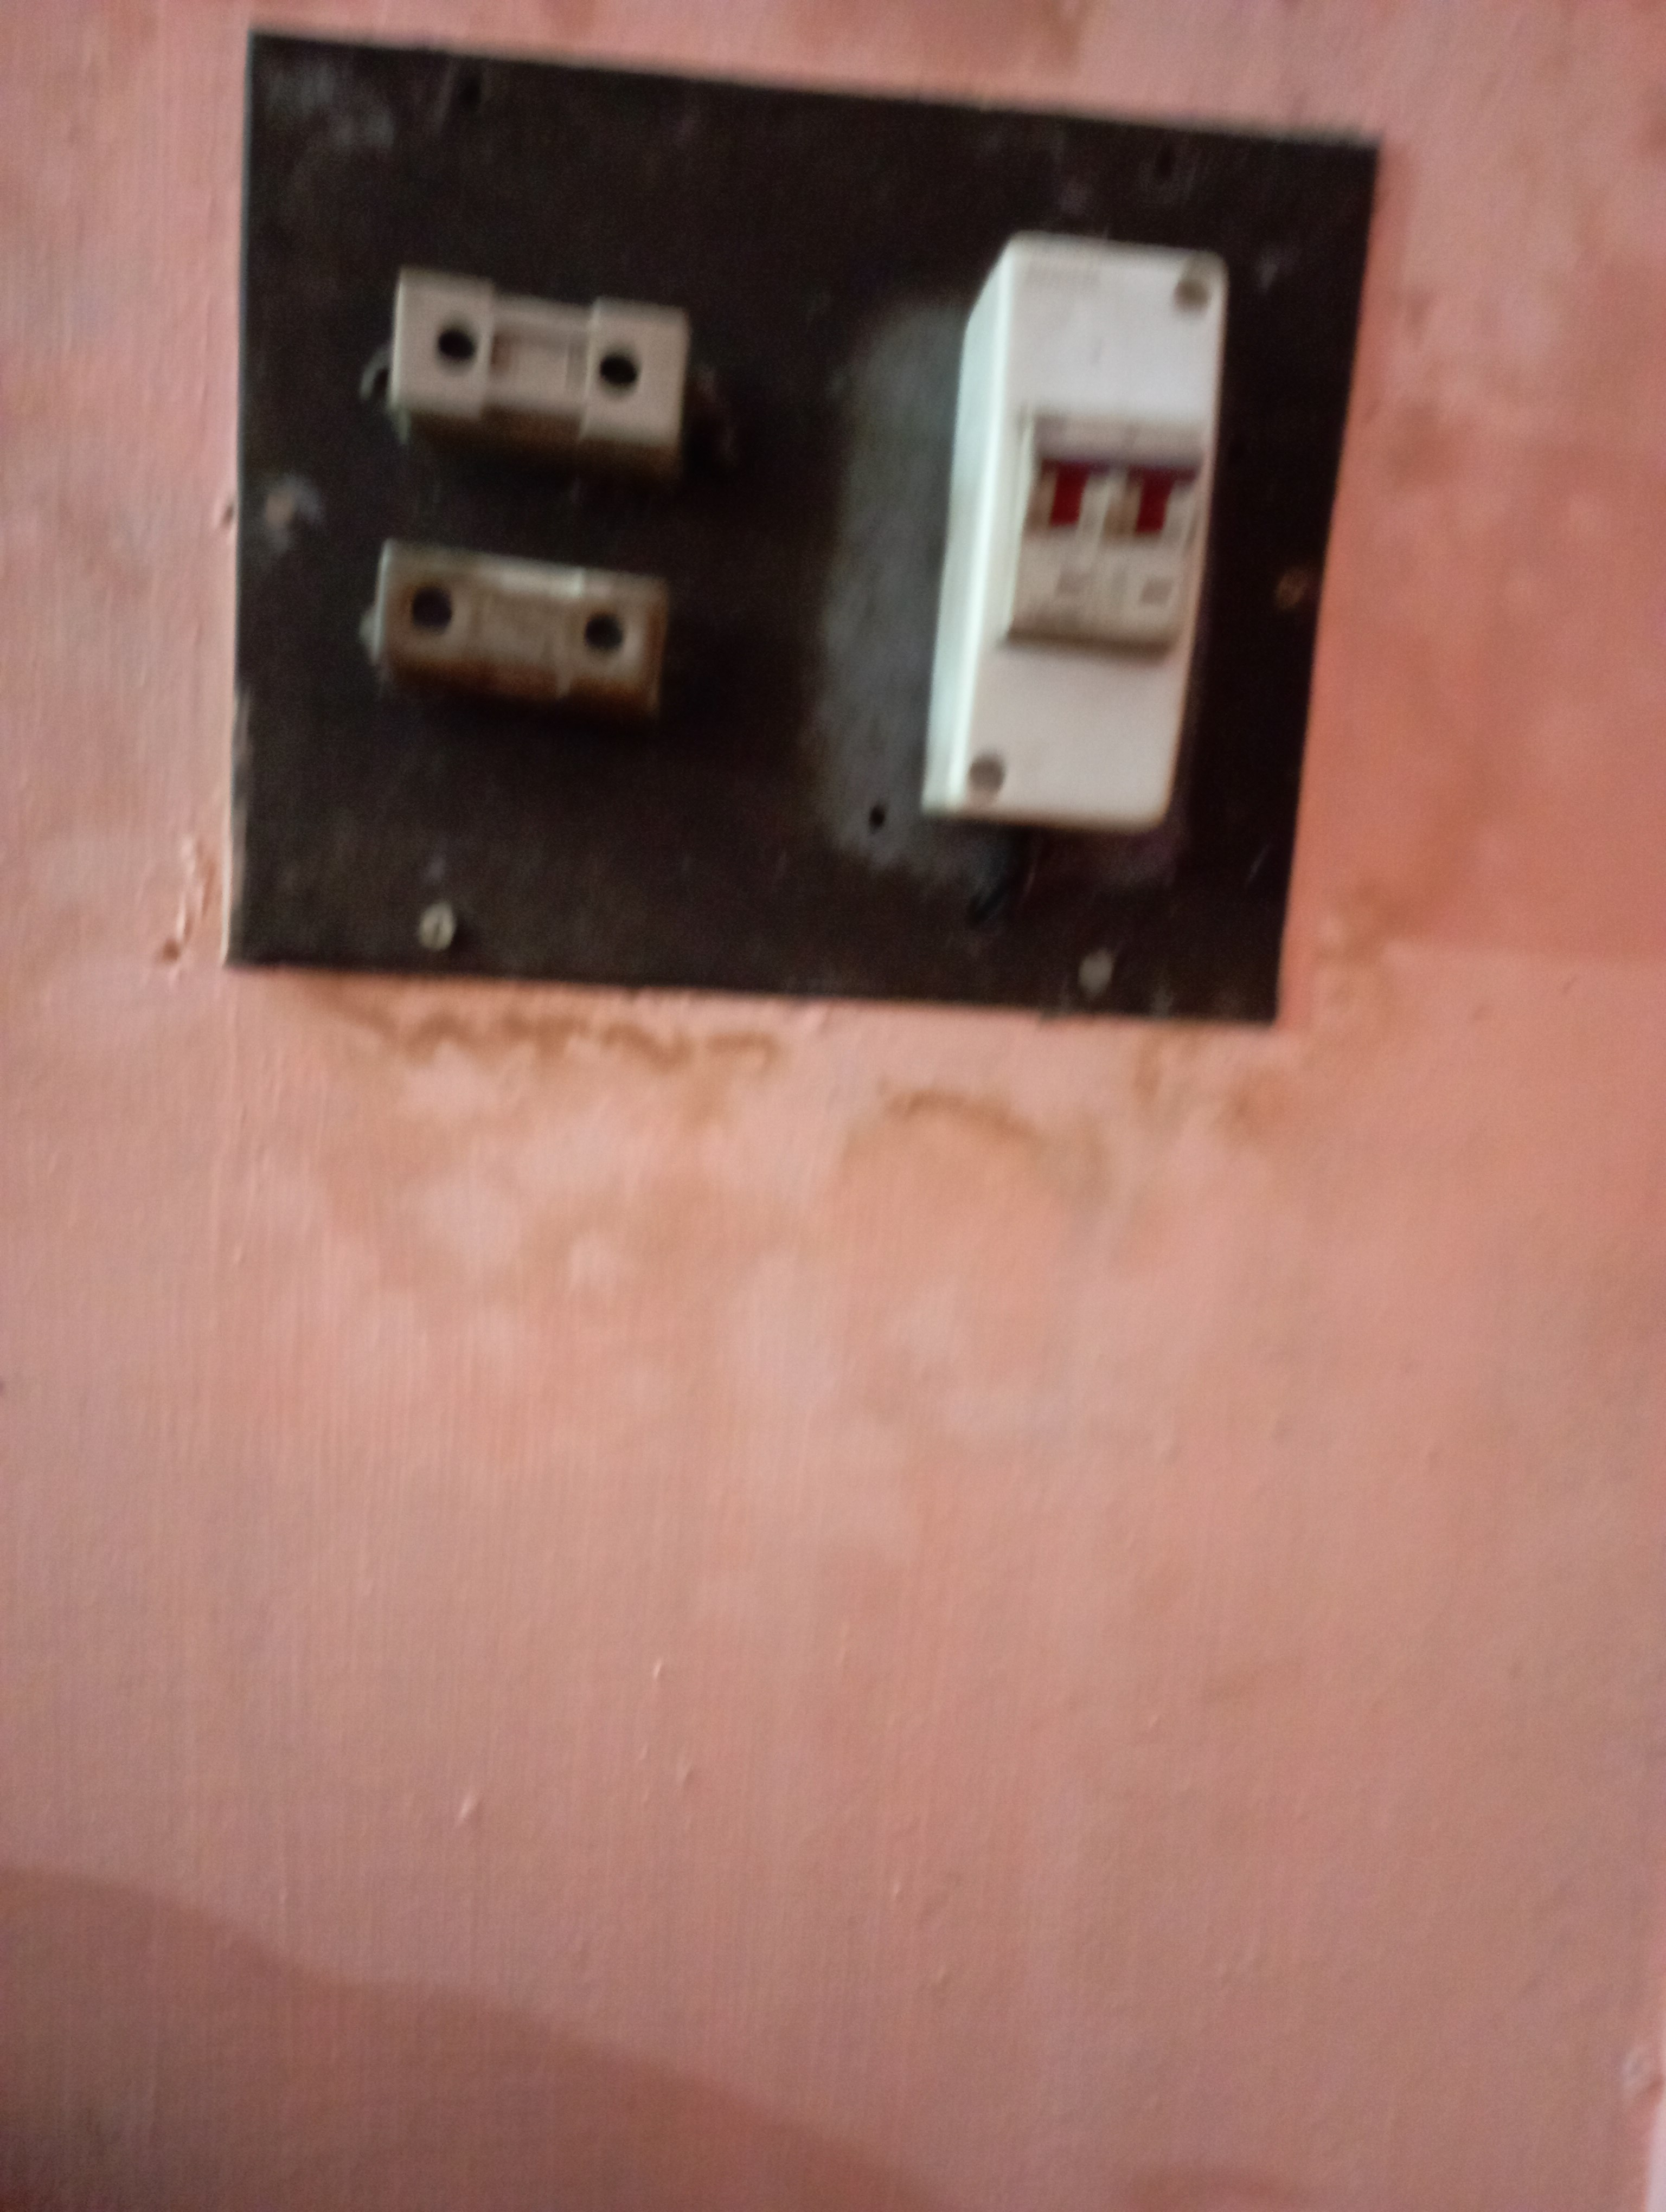ciruit_breaker: (935, 206, 1216, 864)
fuse: (366, 261, 714, 458), (357, 525, 674, 713)
